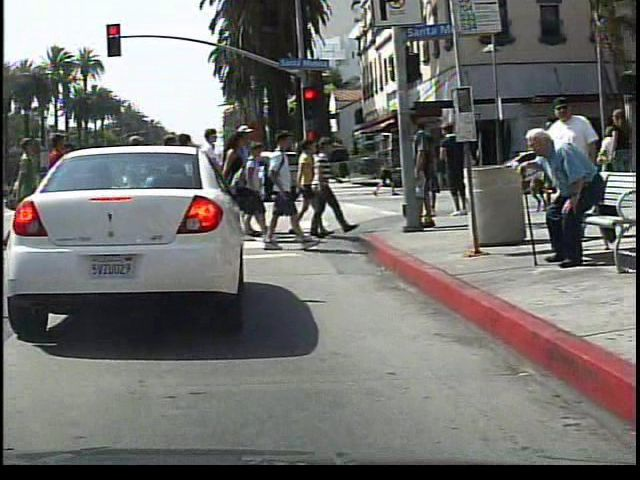person: (515, 127, 609, 273), (370, 138, 397, 196)
